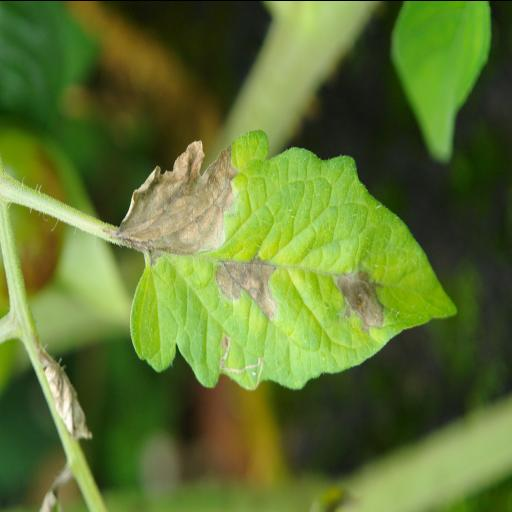disease_tomato: (118, 123, 466, 399)
